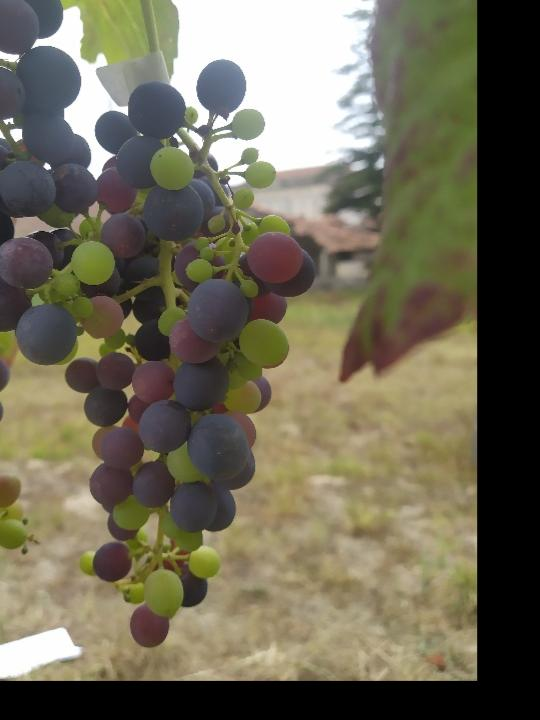grape: (0, 56, 319, 651)
